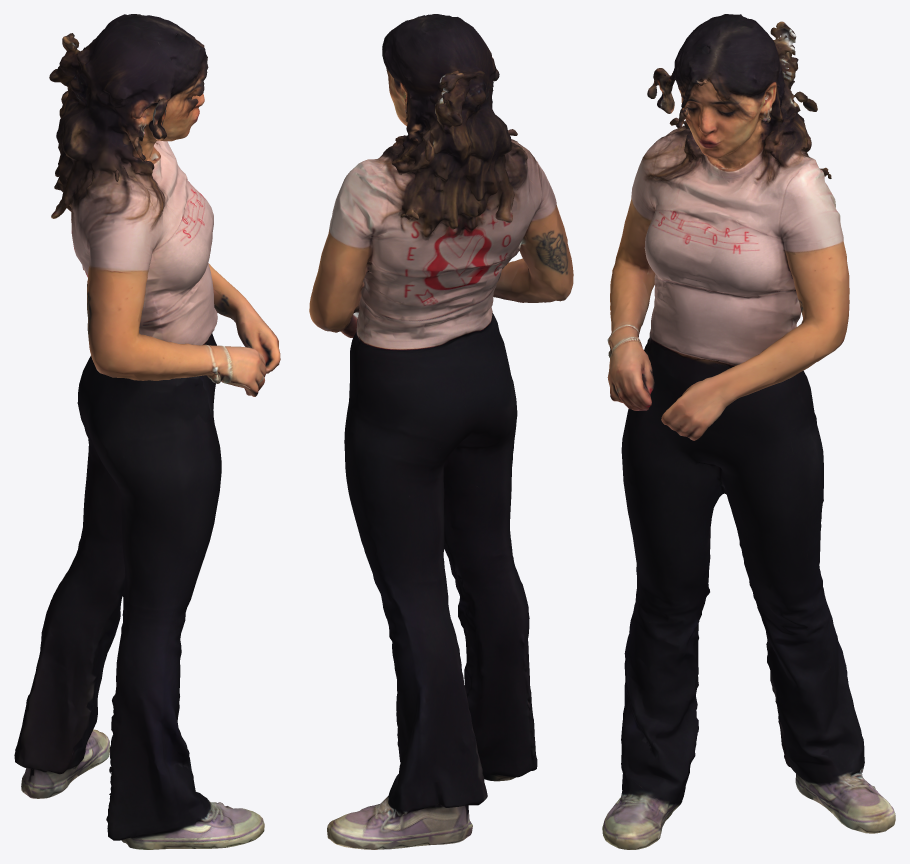
3 views of the same model, side by side, from view 1: azimuth 30°, elevation 25°; view 2: azimuth 150°, elevation 25°; view 3: azimuth 270°, elevation 25° (orthographic). The views are drawn at different scales.
Visible parts, largest first — view 1: 7b51f75_00600; view 2: 7b51f75_00600; view 3: 7b51f75_00600.
Boxes of the visible parts, x1,y1,x2,y2 form: 7b51f75_00600: (14,14,280,849); 7b51f75_00600: (309,14,573,849); 7b51f75_00600: (602,14,895,849).
Size of the model in its own units: 440 by 1570 by 526.
1 material, 1 textured.
